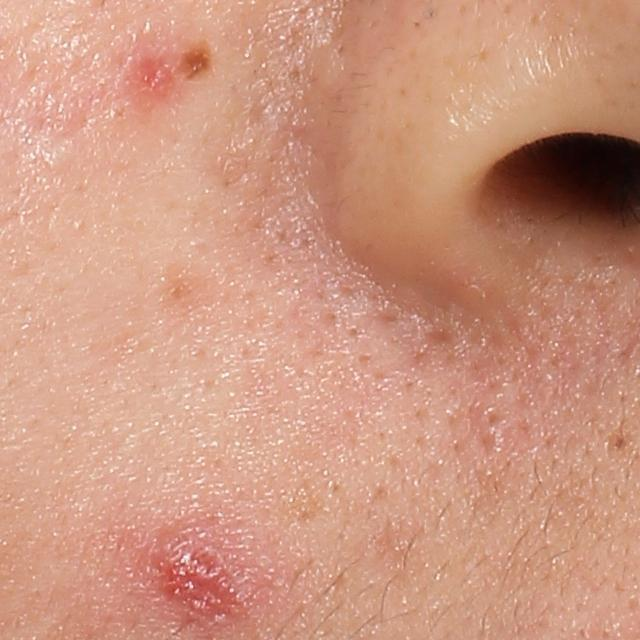nevus: (180, 45, 212, 77)
papule: (155, 546, 229, 615)
